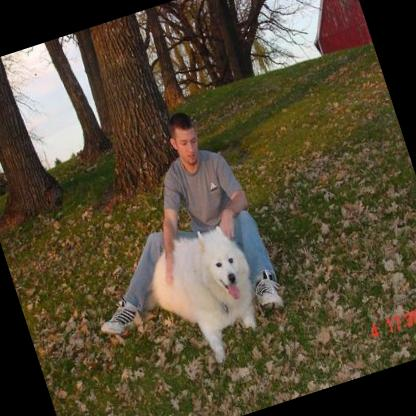Samoyed: (134, 215, 274, 376)
